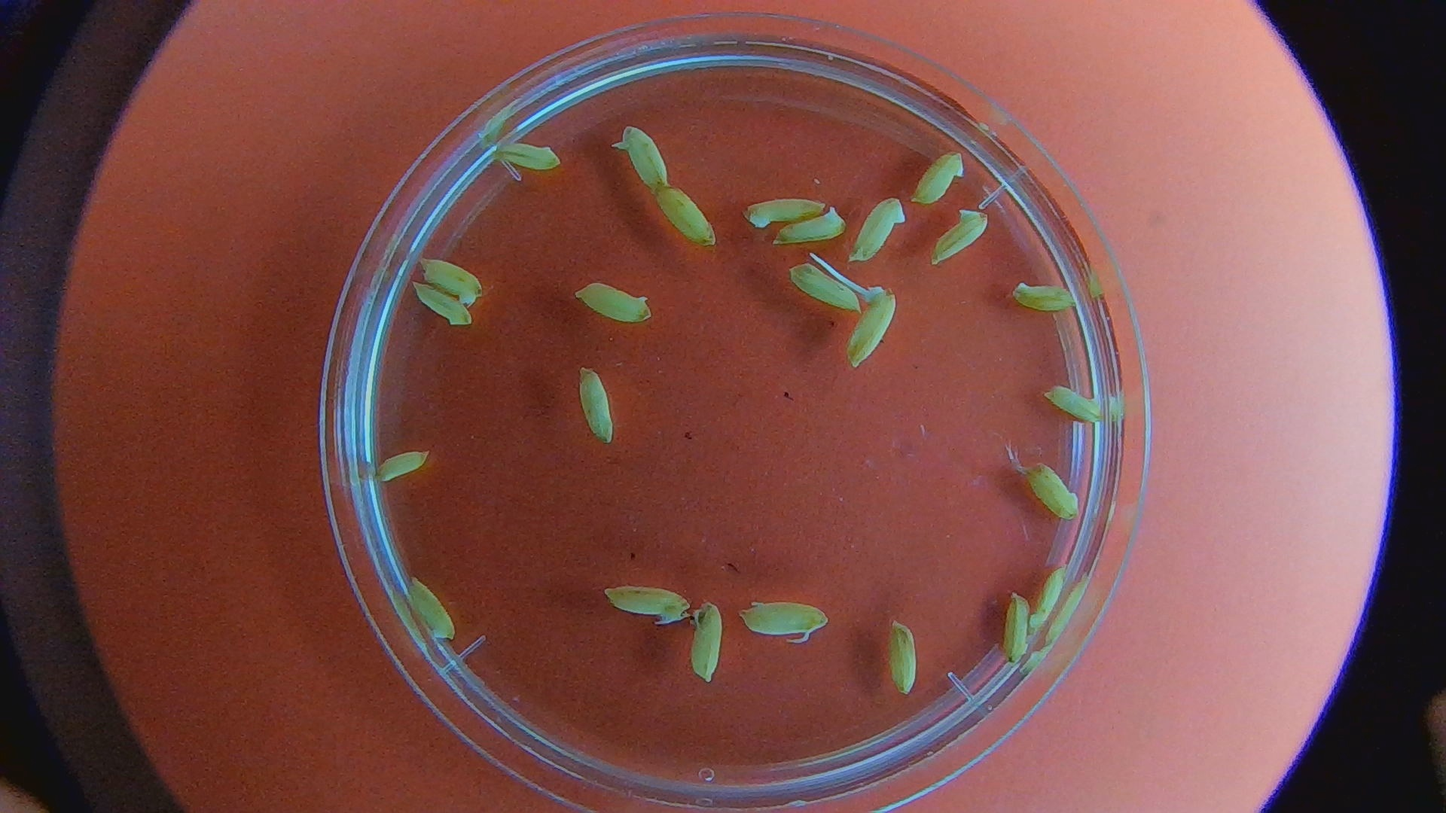no: (596, 583, 696, 629), (608, 122, 674, 190), (931, 206, 991, 273), (1020, 458, 1083, 519), (850, 196, 909, 260), (738, 600, 828, 641), (661, 189, 718, 252), (407, 574, 458, 644), (576, 279, 655, 324), (687, 598, 725, 683), (423, 254, 487, 303), (912, 151, 969, 206), (1026, 567, 1069, 639), (575, 367, 617, 440), (773, 208, 844, 250), (794, 266, 859, 311), (494, 136, 568, 175), (883, 616, 919, 693), (1014, 277, 1083, 317), (744, 199, 821, 231), (1044, 385, 1106, 423), (411, 287, 469, 327), (1005, 593, 1034, 669), (375, 446, 432, 484)
yes: (844, 286, 897, 367)
